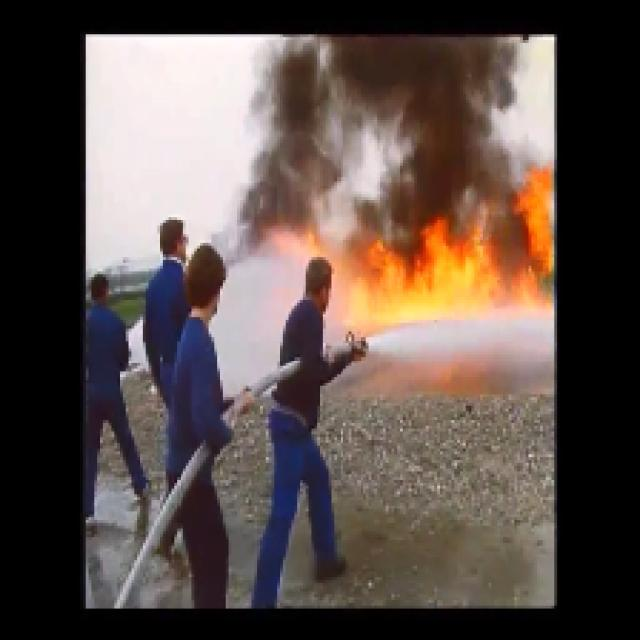fire: (369, 246, 494, 304)
smoke: (359, 39, 504, 231), (266, 72, 324, 206)
